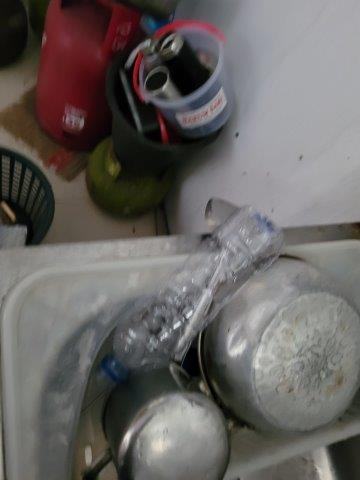botolplastik: (104, 205, 280, 385)
